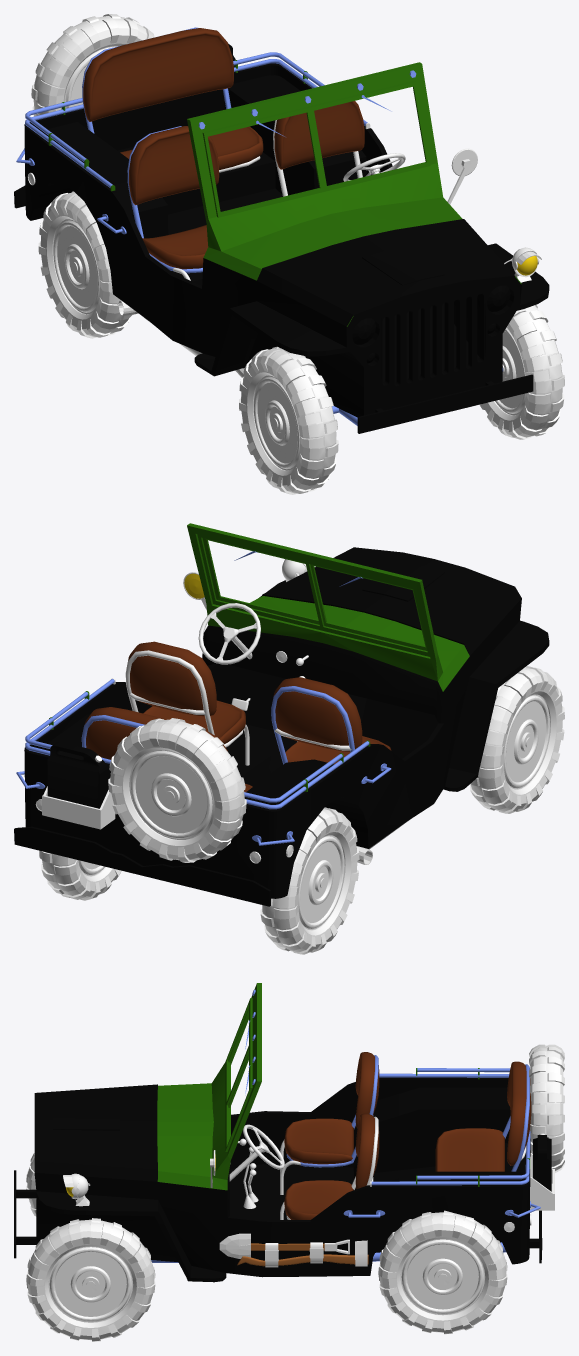
File: jeep 2.fbx
3 views of the same model, one above another, from view 1: azimuth 30°, elevation 25°; view 2: azimuth 150°, elevation 25°; view 3: azimuth 270°, elevation 25° (orthographic). The views are drawn at different scales.
Visible parts, largest first — view 1: Jeep carrosserie; view 2: Jeep carrosserie; view 3: Jeep carrosserie.
Part boxes in pixels (x1,y1,x2,y2): Jeep carrosserie: [14, 14, 564, 494]; Jeep carrosserie: [14, 523, 564, 954]; Jeep carrosserie: [14, 983, 564, 1341].
Bounding box in the file's own units: 61.24 × 60.85 × 118.
